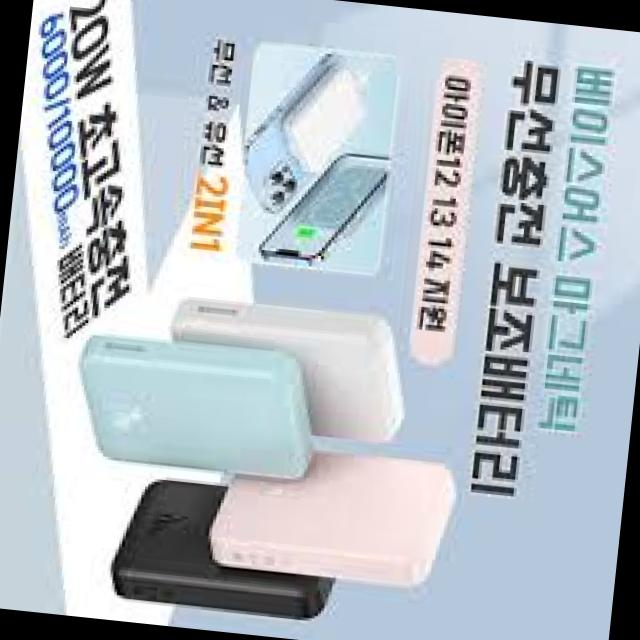portable-charger: (60, 328, 326, 490), (200, 434, 465, 594), (100, 470, 354, 624), (169, 296, 417, 450), (275, 64, 376, 179)
